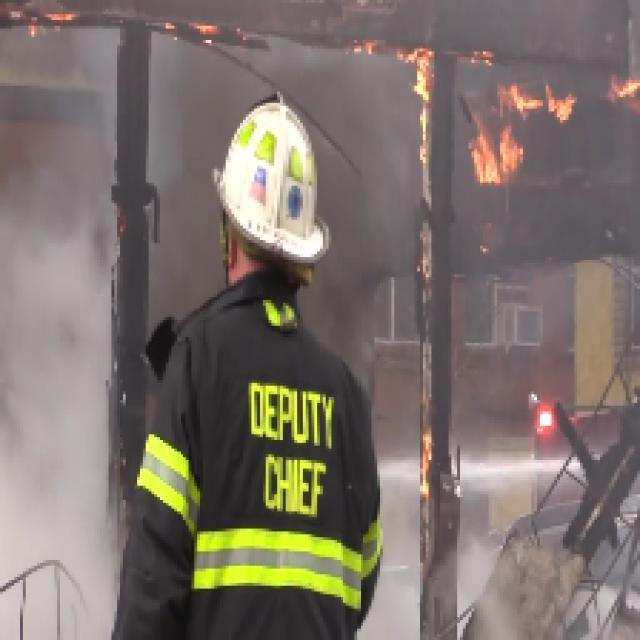Fire: (404, 42, 604, 186)
